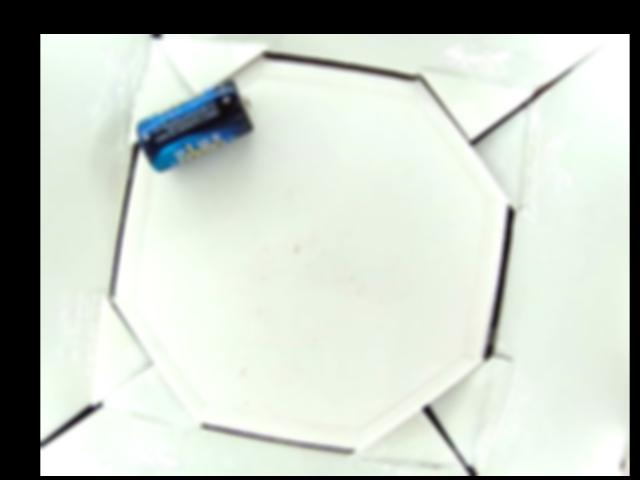Battery: (135, 79, 252, 174)
